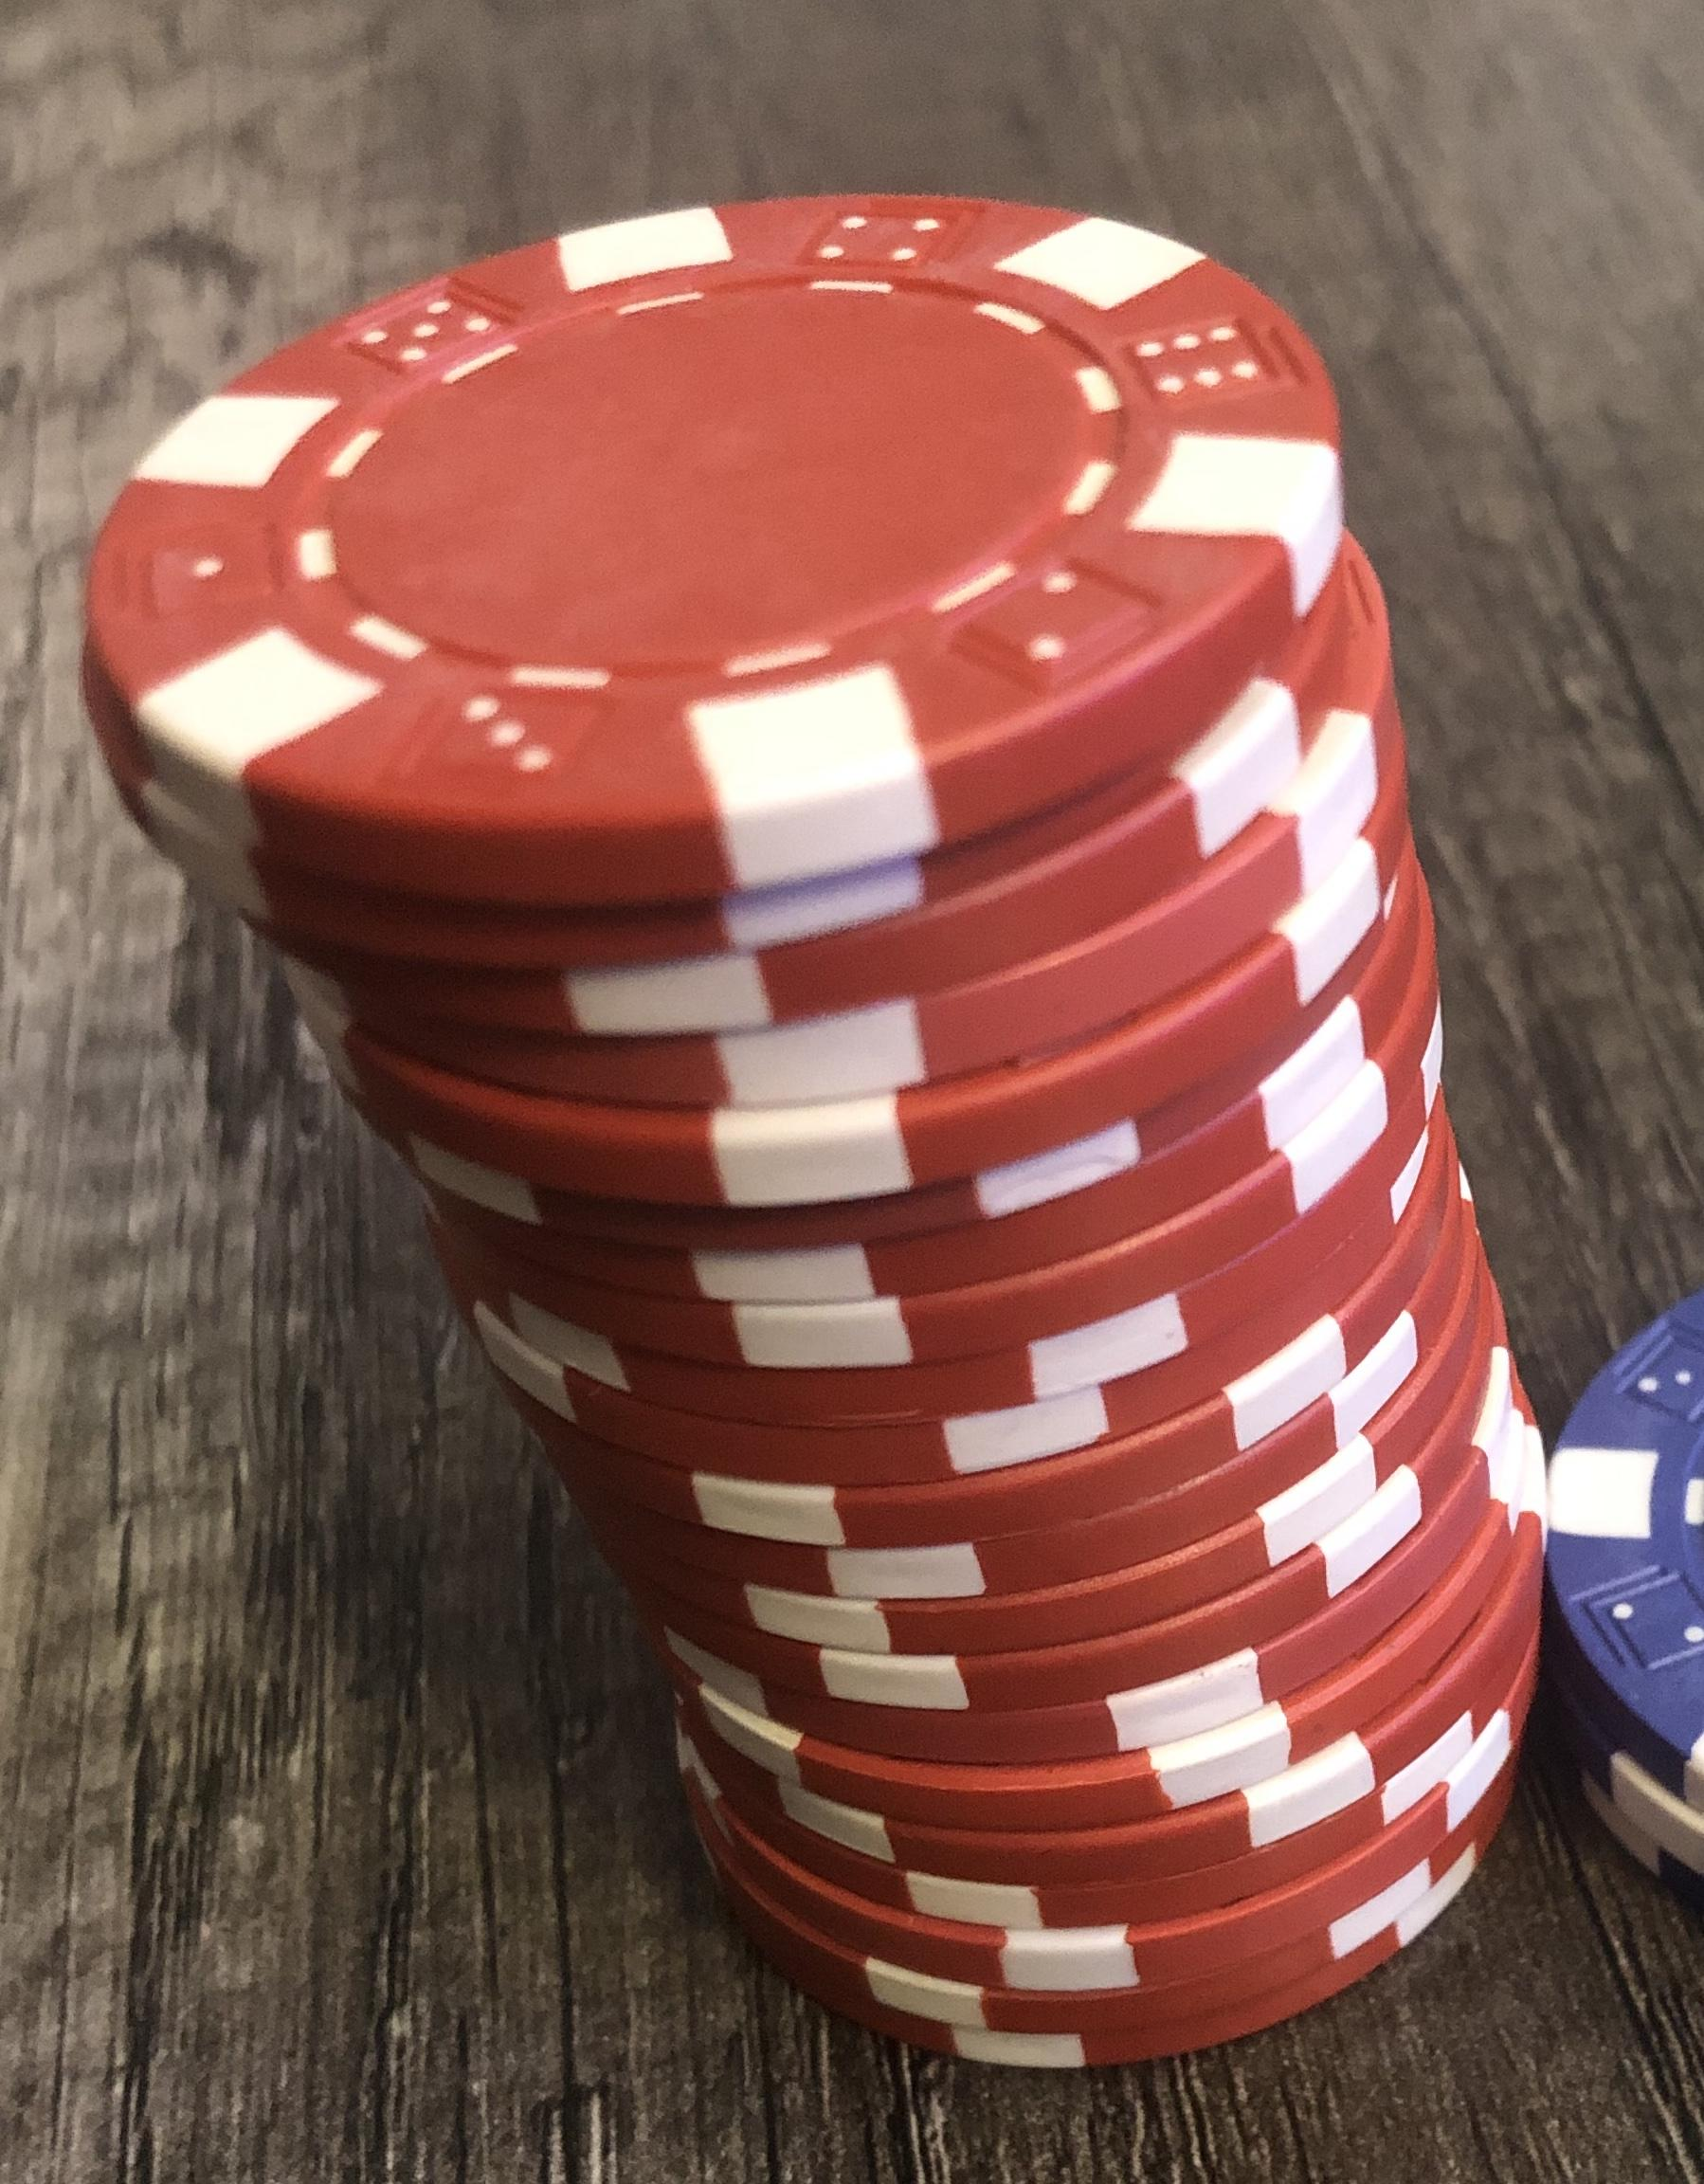Chip: (2, 2, 1704, 2184)
